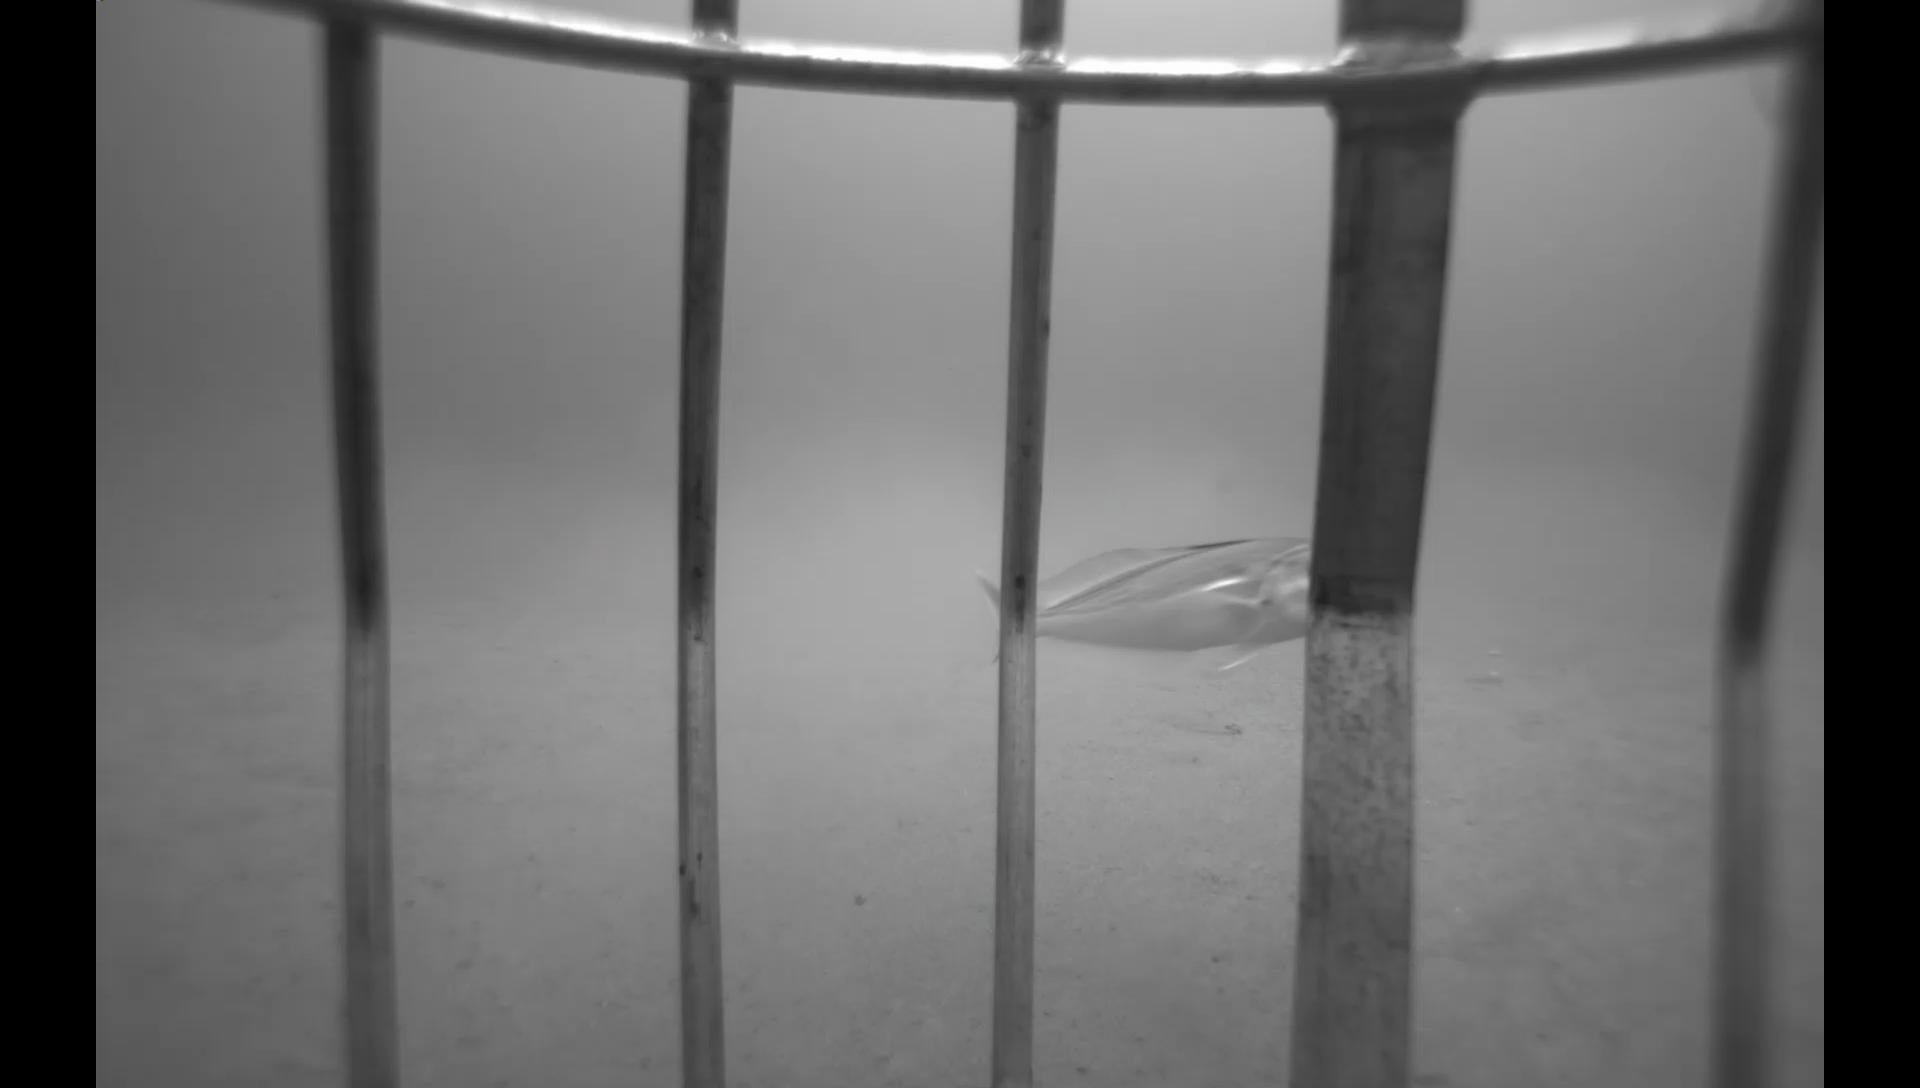CAULOLATILUSCYANOPS-170070101: (963, 533, 1315, 680)
PRISTIPOMOIDES-170151800: (183, 597, 320, 666)
SYACIUM-183011000: (1143, 699, 1249, 742)
